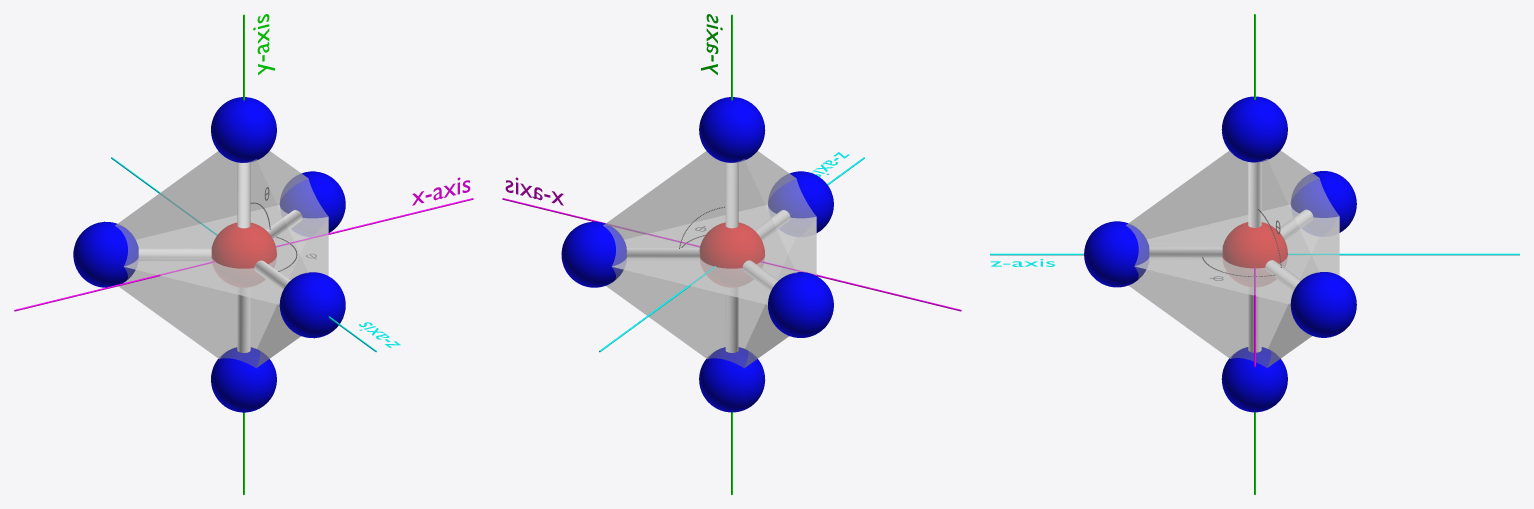
File: trigonal_bipyramidal_shape.glb
3 renders of one model, left to right at view 1: azimuth 30°, elevation 25°; view 2: azimuth 150°, elevation 25°; view 3: azimuth 270°, elevation 25°, orthographic.
Visible parts, largest first — view 1: TOP SHAPE, 1 trigonal_bipyramidal, inverted, Cylinder.001; view 2: TOP SHAPE, 1 trigonal_bipyramidal, inverted, Cylinder.001; view 3: TOP SHAPE, 1 trigonal_bipyramidal, inverted, Cylinder.002.
Part boxes in pixels (x1,y1,x2,y2): TOP SHAPE: [115, 151, 328, 304]; 1 trigonal_bipyramidal: [73, 97, 345, 412]; inverted: [118, 205, 327, 367]; Cylinder.001: [14, 198, 473, 311]; TOP SHAPE: [603, 151, 816, 304]; 1 trigonal_bipyramidal: [561, 97, 833, 412]; inverted: [606, 205, 815, 367]; Cylinder.001: [502, 198, 961, 311]; TOP SHAPE: [1126, 150, 1339, 304]; 1 trigonal_bipyramidal: [1084, 96, 1356, 412]; inverted: [1128, 205, 1338, 367]; Cylinder.002: [990, 253, 1519, 255].
Size of the model in its own units: 6 by 6 by 6.
